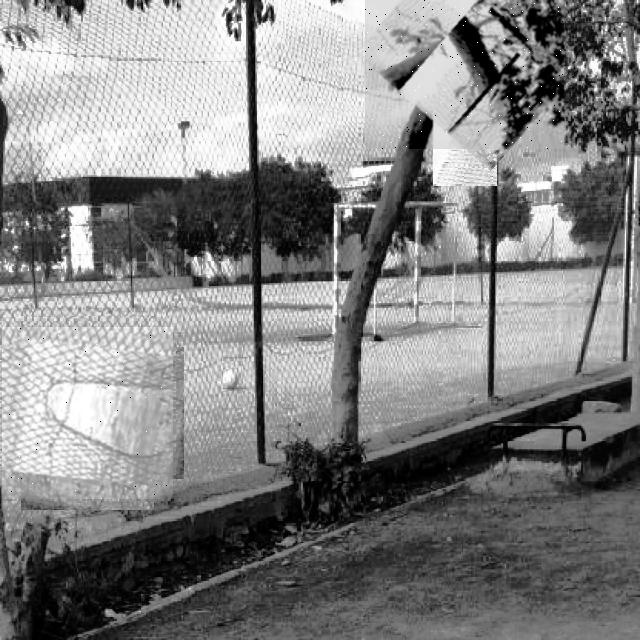anomaly-fence: (365, 0, 564, 149), (2, 327, 173, 499)
